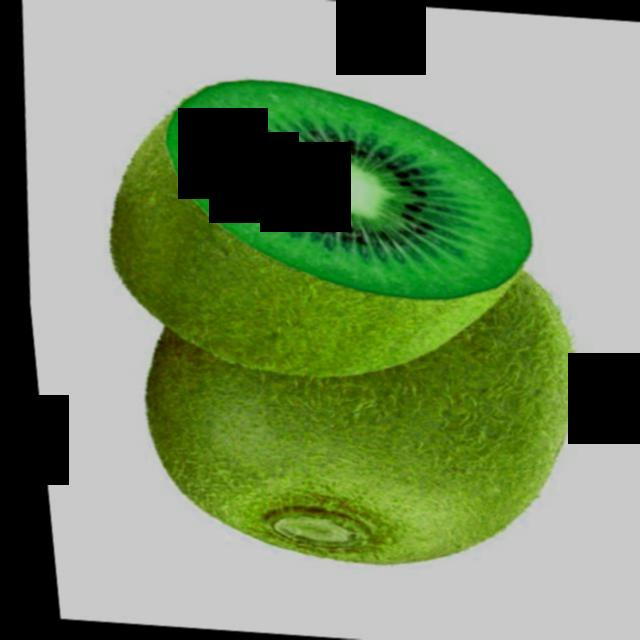kiwi: (108, 215, 596, 582)
